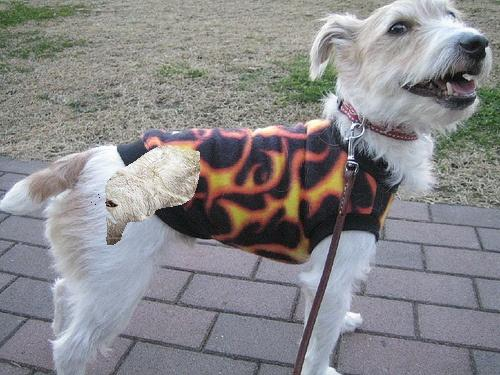tampered: (92, 146, 200, 245)
